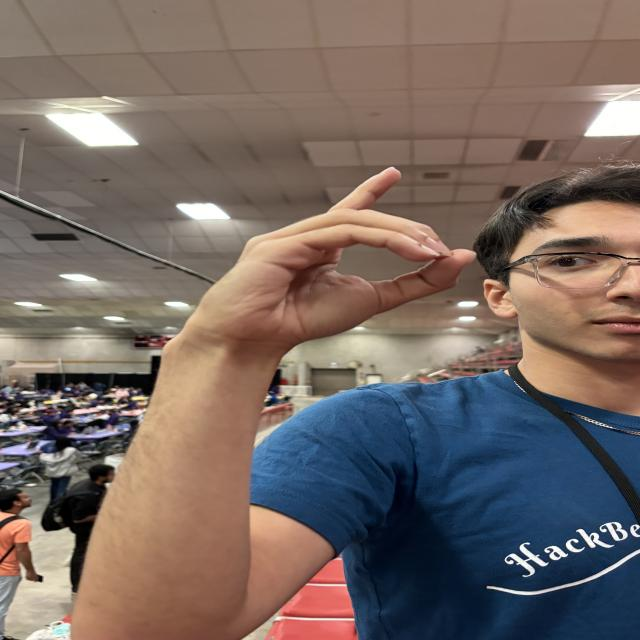D: (182, 147, 465, 326)
